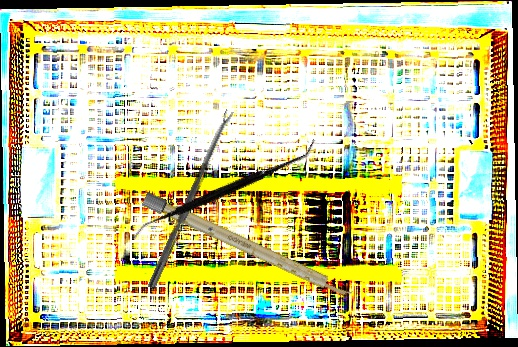Scalpel Handle: (141, 191, 355, 302)
Spatula Surgical: (130, 84, 318, 295)
Surgical Spoon: (147, 109, 235, 290)
